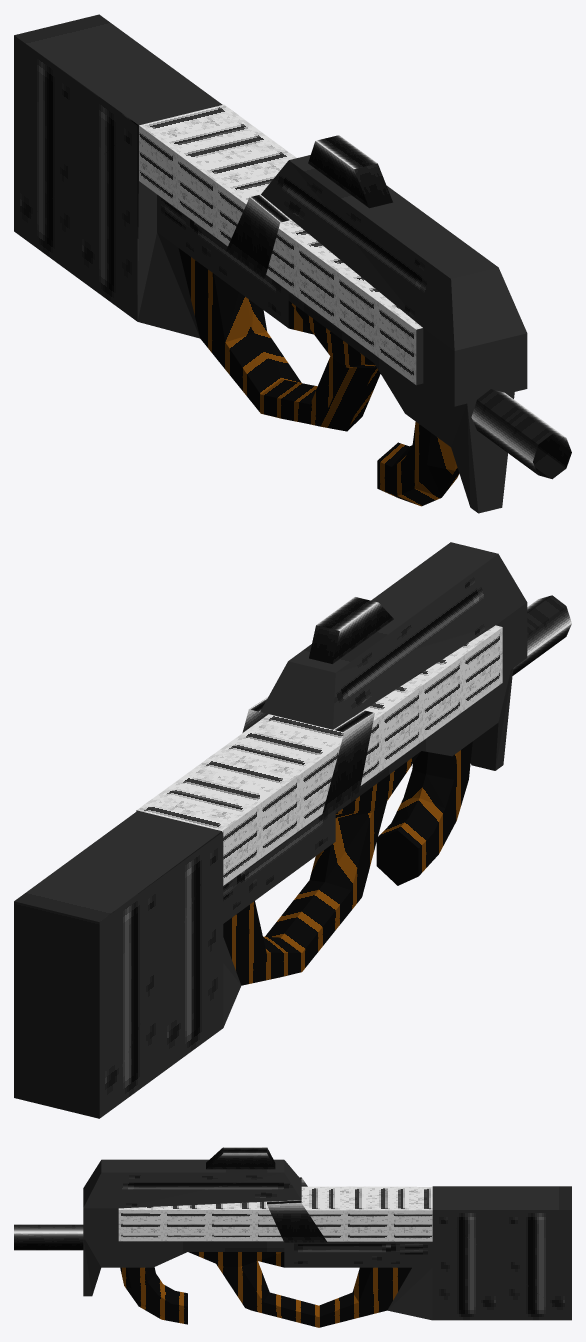
Rendered from gun.glb.
3 views of the same model, one above another, from view 1: azimuth 30°, elevation 25°; view 2: azimuth 150°, elevation 25°; view 3: azimuth 270°, elevation 25° (orthographic). The views are drawn at different scales.
Visible parts, largest first — view 1: Room1D_primary, Room11_primary, Room19_primary, Room10_primary, Room14_primary, Room17_primary, Room1C_primary, Room1A_primary, Room1B_primary, Room13_primary, Room12_primary; view 2: Room1D_primary, Room11_primary, Room10_primary, Room19_primary, Room17_primary, Room1A_primary, Room14_primary, Room13_primary, Room12_primary, Room1C_primary, Room1B_primary; view 3: Room1D_primary, Room11_primary, Room17_primary, Room10_primary, Room19_primary, Room14_primary, Room1A_primary, Room1C_primary, Room0D_primary, Room13_primary, Room1B_primary.
Boxes of the visible parts, x1,y1,x2,y2 form: Room1D_primary: (14,14,222,321); Room11_primary: (139,104,423,385); Room19_primary: (137,232,380,431); Room10_primary: (250,155,482,327); Room14_primary: (423,256,527,406); Room17_primary: (157,194,466,446); Room1C_primary: (471,389,571,479); Room1A_primary: (377,422,459,506); Room1B_primary: (451,392,514,513); Room13_primary: (308,135,392,208); Room12_primary: (226,197,280,278); Room1D_primary: (14,810,223,1118); Room11_primary: (136,625,502,885); Room10_primary: (249,553,495,732); Room19_primary: (223,801,386,1027); Room17_primary: (156,670,510,923); Room1A_primary: (376,741,472,885); Room14_primary: (435,542,527,675); Room13_primary: (309,597,393,663); Room12_primary: (321,713,374,819); Room1C_primary: (512,595,571,675); Room1B_primary: (470,668,513,770); Room1D_primary: (432,1186,571,1320); Room11_primary: (118,1186,432,1241); Room17_primary: (85,1239,432,1267); Room10_primary: (118,1159,301,1208); Room19_primary: (216,1261,432,1327); Room14_primary: (83,1159,118,1239); Room1A_primary: (120,1267,187,1324); Room1C_primary: (14,1224,83,1250); Room0D_primary: (267,1203,327,1242); Room13_primary: (206,1147,275,1169); Room1B_primary: (83,1239,101,1296).
Bounding box in the file's own units: 68 × 215 × 613.
Materials: 6 (6 with a texture image).
